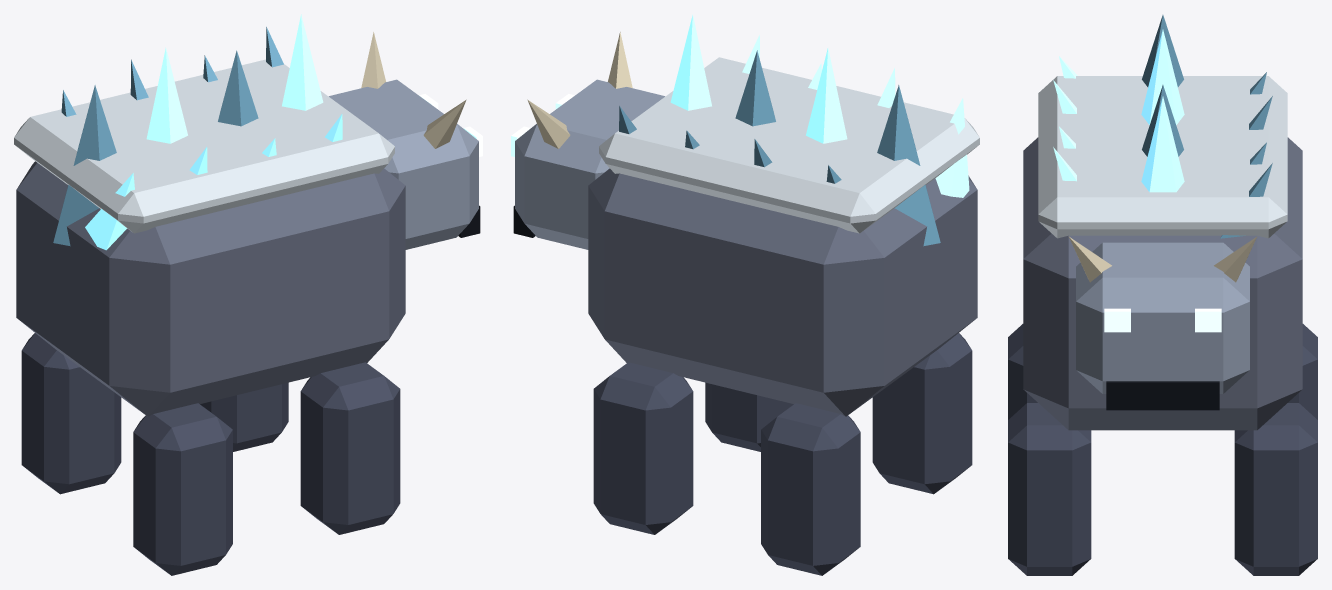
File: rimeback.glb
The picture shows the model from 3 angles, left to right: view 1: azimuth 30°, elevation 25°; view 2: azimuth 150°, elevation 25°; view 3: azimuth 270°, elevation 25°; orthographic projection.
Parts seen in each view (by area): view 1: rimeback; view 2: rimeback; view 3: rimeback.
Part boxes in pixels (x1,y1,x2,y2): rimeback: [14, 14, 482, 575]; rimeback: [511, 14, 979, 575]; rimeback: [1008, 15, 1317, 575].
Bounding box in the file's own units: 1.25 × 1.38 × 0.82.
